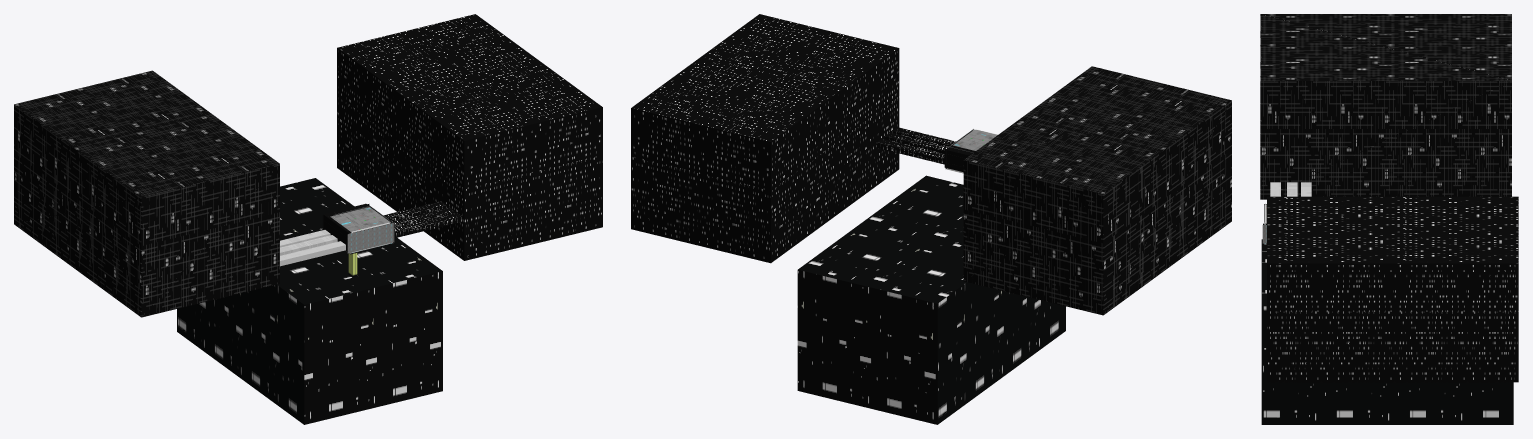
Rendered from TestCenter.FBX.
3 renders of one model, left to right at view 1: azimuth 30°, elevation 25°; view 2: azimuth 150°, elevation 25°; view 3: azimuth 270°, elevation 25°, orthographic. The views are drawn at different scales.
Visible parts, largest first — view 1: Box007, Box005, Box008, Box003, Box004, Plane006, Plane012; view 2: Box007, Box005, Box008, Box003; view 3: Box005, Box007, Box008, Box004.
Part boxes in pixels (box(x1,y1,x2,y2)): Box007: box(14, 70, 279, 317); Box005: box(337, 14, 602, 260); Box008: box(177, 178, 442, 424); Box003: box(383, 201, 462, 237); Box004: box(280, 230, 345, 266); Plane006: box(335, 205, 394, 253); Plane012: box(330, 207, 390, 231); Box007: box(963, 66, 1231, 315); Box005: box(631, 14, 899, 263); Box008: box(797, 175, 1065, 424); Box003: box(876, 127, 955, 164); Box005: box(1267, 196, 1518, 382); Box007: box(1260, 14, 1511, 199); Box008: box(1261, 239, 1513, 424); Box004: box(1270, 182, 1311, 196).
Size of the model in its own units: 2363 by 1302 by 1150.
Materials: 15 (14 with a texture image).
